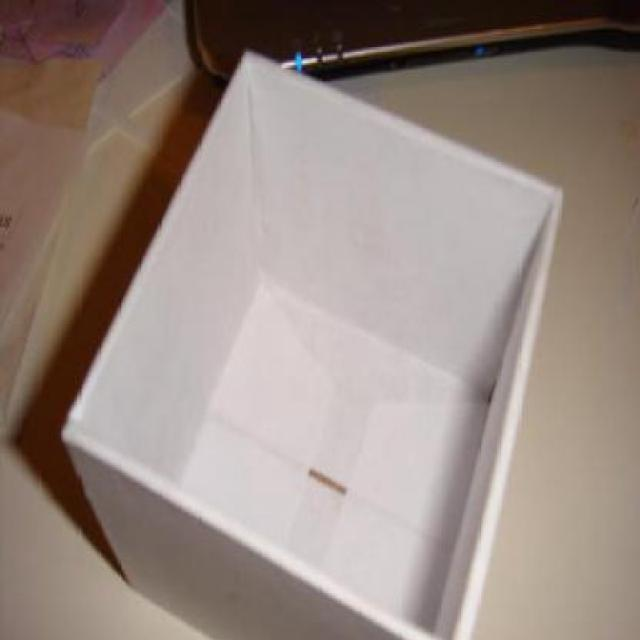box: (54, 43, 574, 640)
